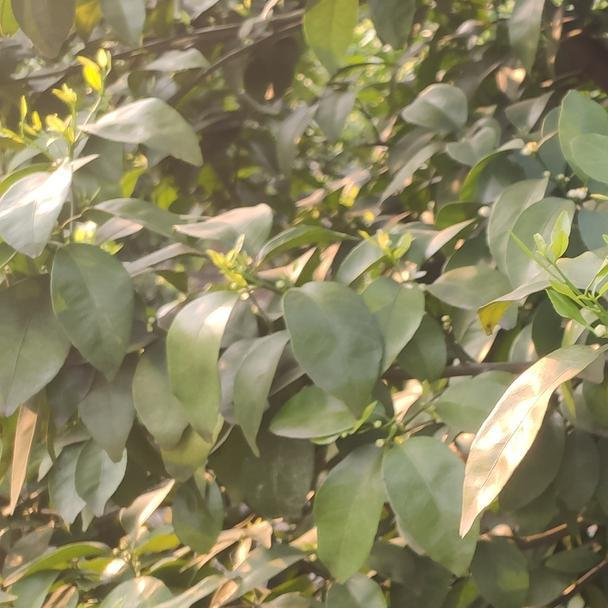shoot: (514, 212, 608, 327)
